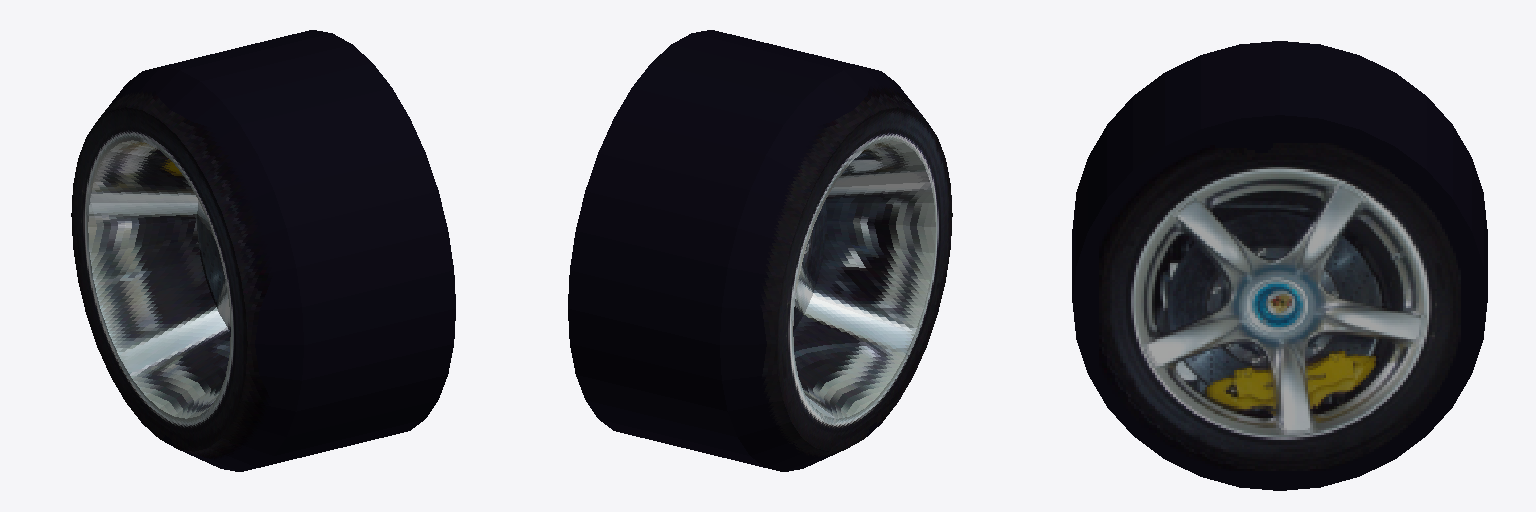
3 renders of one model, left to right at view 1: azimuth 30°, elevation 25°; view 2: azimuth 150°, elevation 25°; view 3: azimuth 270°, elevation 25°, orthographic.
Parts seen in each view (by area): view 1: obj0; view 2: obj0; view 3: obj0.
Part boxes in pixels (x1,y1,x2,y2): obj0: (71, 30, 455, 471); obj0: (568, 30, 952, 471); obj0: (1072, 41, 1487, 490).
Bounding box in the file's own units: 0.3037 × 0.5657 × 0.5657.
1 materials, 1 textured.